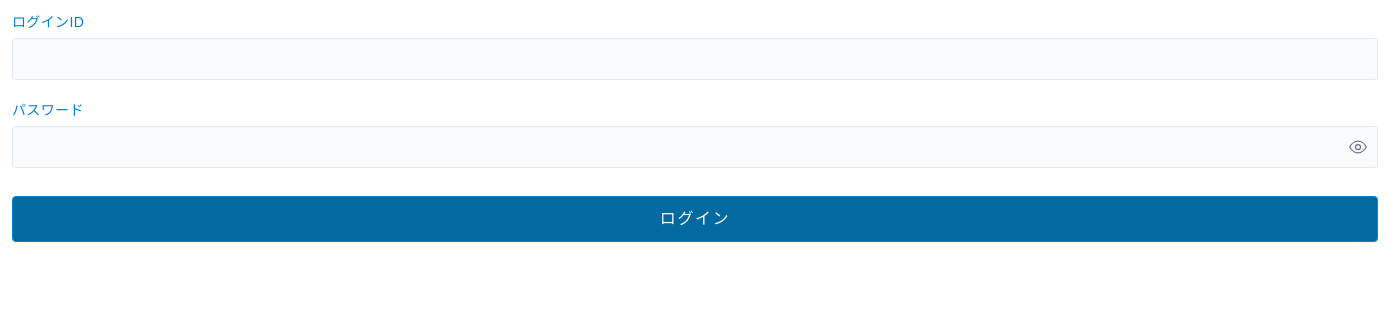
Test: LoginForm › 認証失敗時はエラーメッセージを表示し、パスワード欄を空にする
In the field labelled "ログインID": (695, 59) [12, 38, 1378, 80], type "taro"
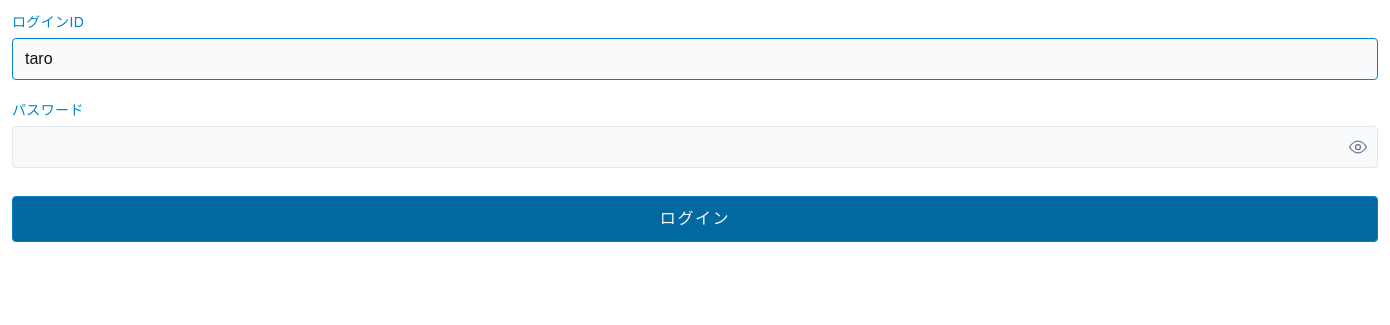
In the password field labelled "パスワード": (695, 147) [12, 126, 1378, 168], type "wrong-password"
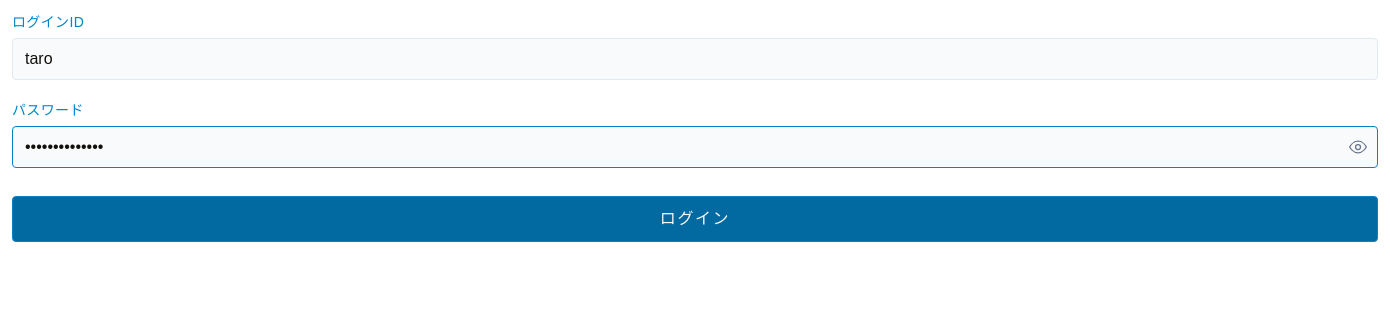
Click the button "ログイン": (695, 219) [12, 196, 1378, 242]
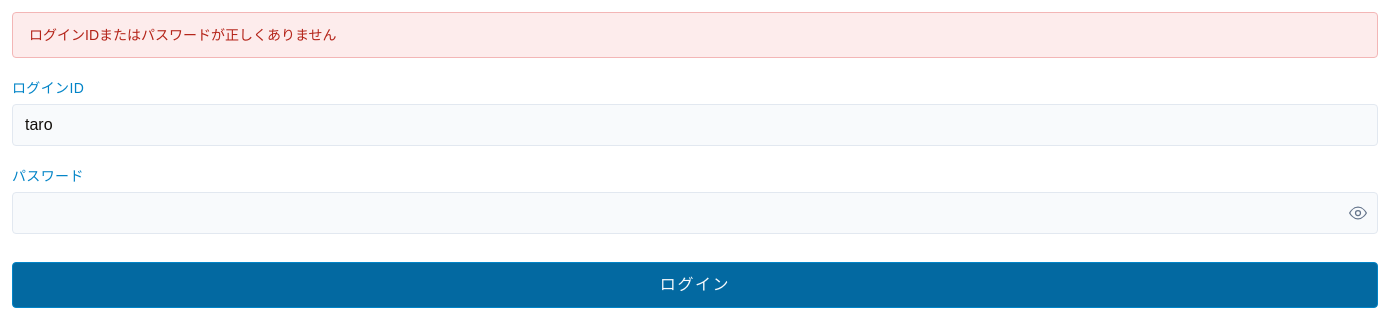
Result: the text "ログインIDまたはパスワードが正しくありません" is shown at [12, 12, 1378, 58]
Result: the password field labelled "パスワード" is empty at [12, 192, 1378, 234]
